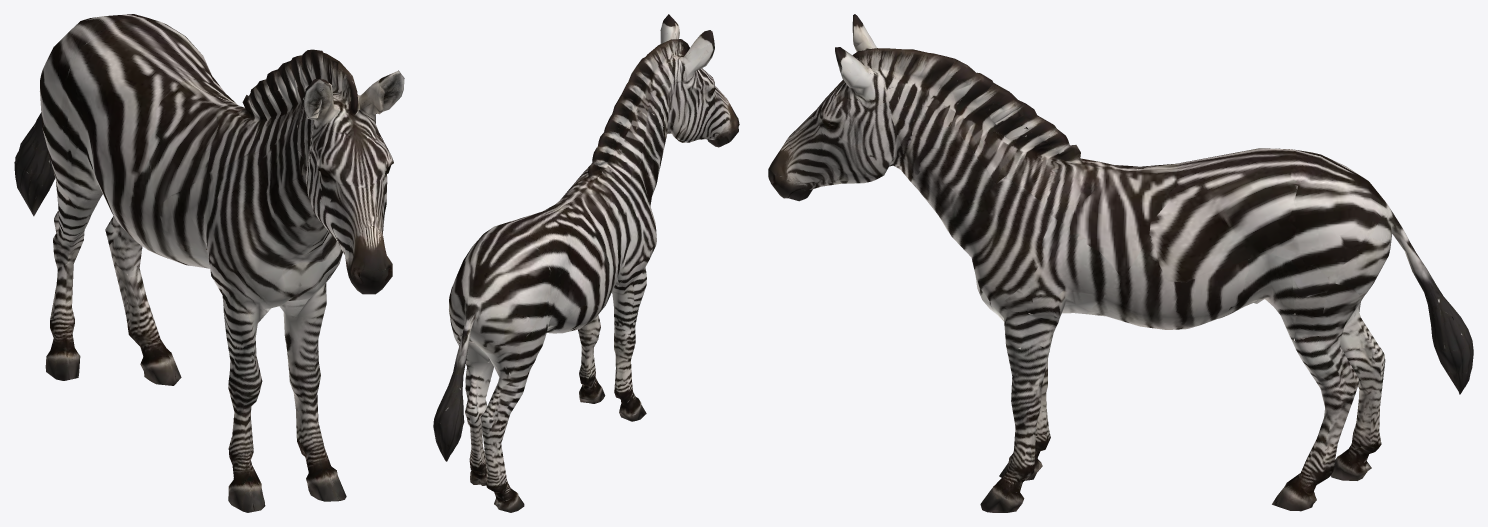
File: zebra.glb
3 views of the same model, side by side, from view 1: azimuth 30°, elevation 25°; view 2: azimuth 150°, elevation 25°; view 3: azimuth 270°, elevation 25° (orthographic). The views are drawn at different scales.
Parts seen in each view (by area): view 1: zebra; view 2: zebra; view 3: zebra.
Boxes of the visible parts, x1,y1,x2,y2 form: zebra: [14, 14, 404, 512]; zebra: [433, 14, 739, 512]; zebra: [768, 14, 1473, 512].
Size of the model in its own units: 0.4803 by 1.7 by 2.4.
Materials: 1 (1 with a texture image).
